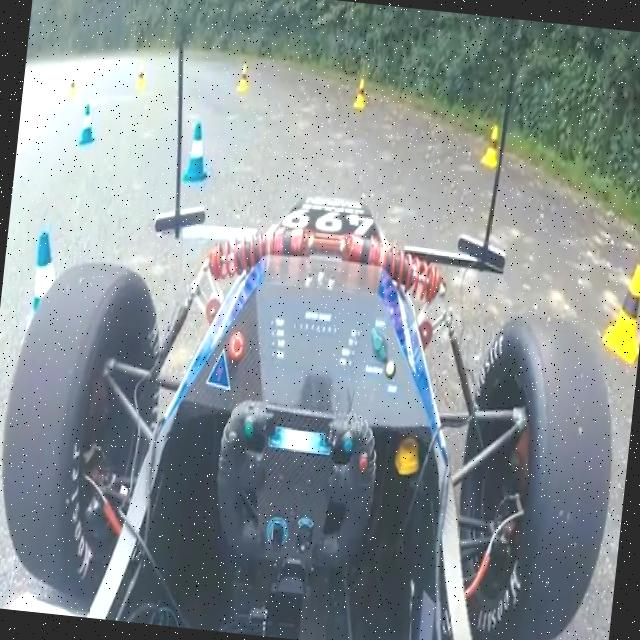blue_cone: (15, 216, 74, 310), (178, 108, 222, 206), (68, 90, 104, 159)
yellow_cone: (594, 222, 640, 376), (474, 111, 506, 170), (234, 51, 253, 98), (351, 71, 368, 108)
